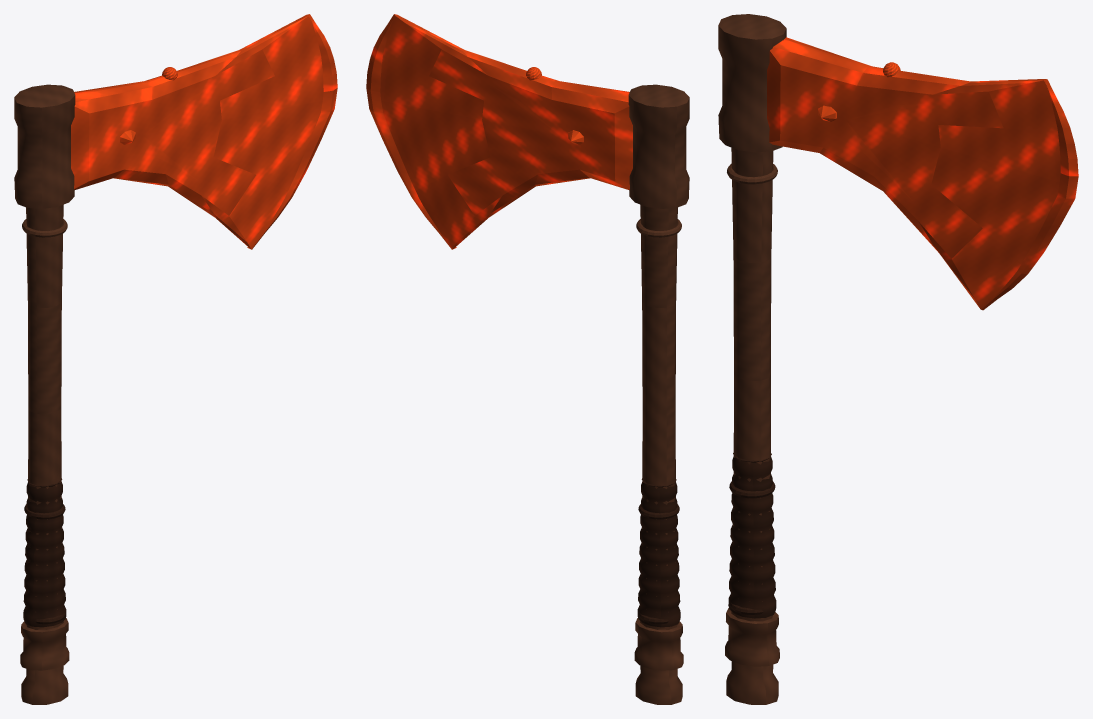
File: underworld-weapon-emberiron-axe.glb
3 renders of one model, left to right at view 1: azimuth 30°, elevation 25°; view 2: azimuth 150°, elevation 25°; view 3: azimuth 330°, elevation 25°, orthographic. The views are drawn at different scales.
Visible parts, largest first — view 1: axe-head, haft, head-band, grip-wrap, edge, lower-band; view 2: axe-head, haft, head-band, grip-wrap, edge, lower-band; view 3: axe-head, haft, head-band, grip-wrap, edge, lower-band.
Part boxes in pixels (box(x1,y1,x2,y2)): axe-head: box(71, 14, 323, 249); haft: box(21, 204, 68, 704); head-band: box(14, 84, 75, 208); grip-wrap: box(23, 478, 66, 627); edge: box(247, 14, 337, 249); lower-band: box(20, 618, 69, 670); axe-head: box(380, 14, 632, 249); haft: box(635, 204, 682, 704); head-band: box(628, 84, 689, 208); grip-wrap: box(637, 478, 680, 627); edge: box(366, 14, 456, 249); lower-band: box(634, 618, 683, 670); axe-head: box(767, 37, 1060, 309); haft: box(726, 147, 778, 704); head-band: box(718, 14, 786, 152); grip-wrap: box(728, 453, 776, 618); edge: box(981, 79, 1078, 310); lower-band: box(725, 608, 779, 666).
Bounding box in the file's own units: 0.6409 × 1.19 × 0.0907.
Materials: 3 (3 with a texture image).
